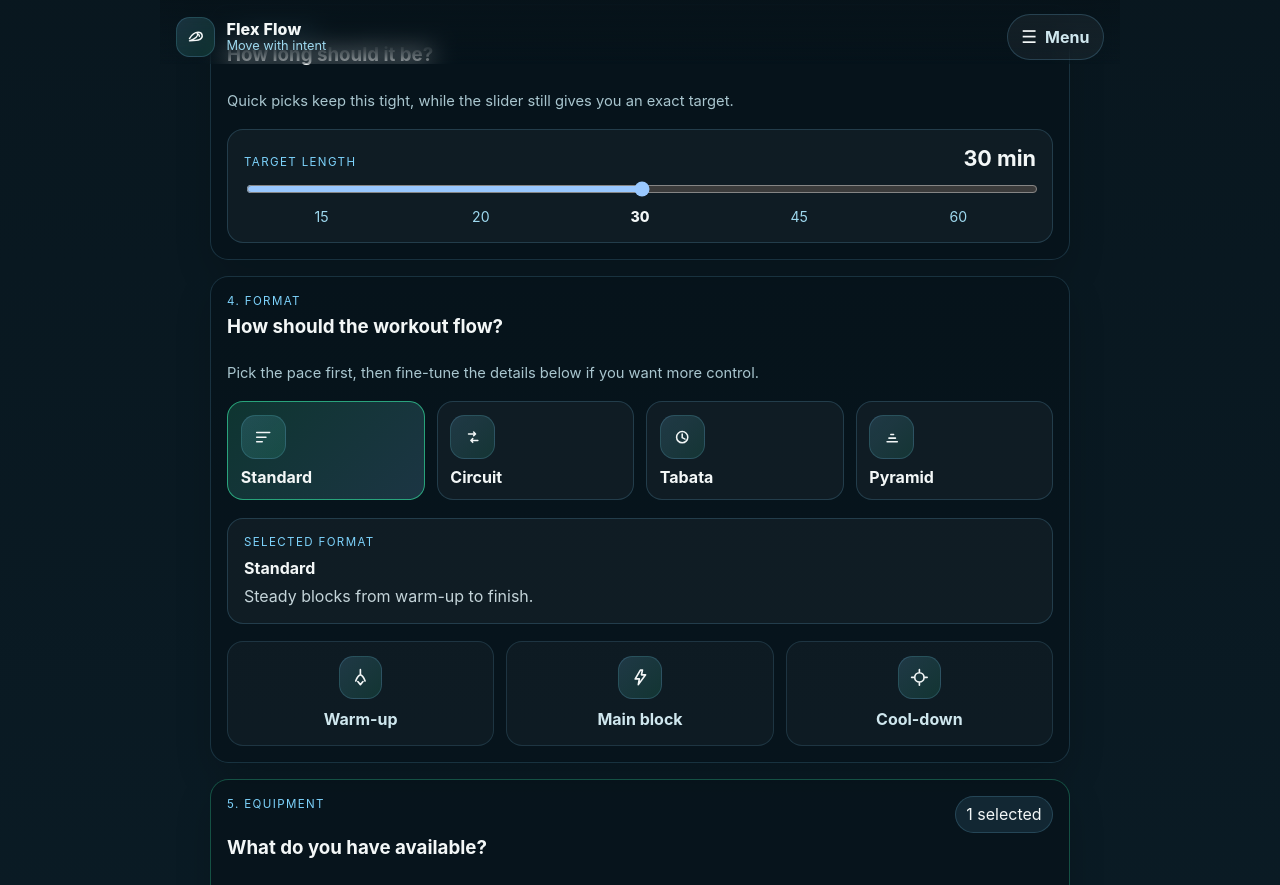
Scenario: App shell routing › updates the builder footer recap when the user changes workout shape
The width and height of the screenshot is (1280, 885).
(page scrolled)
Click the button "Tabata". click: (745, 451)
box: [646,401,844,500]
(page scrolled)
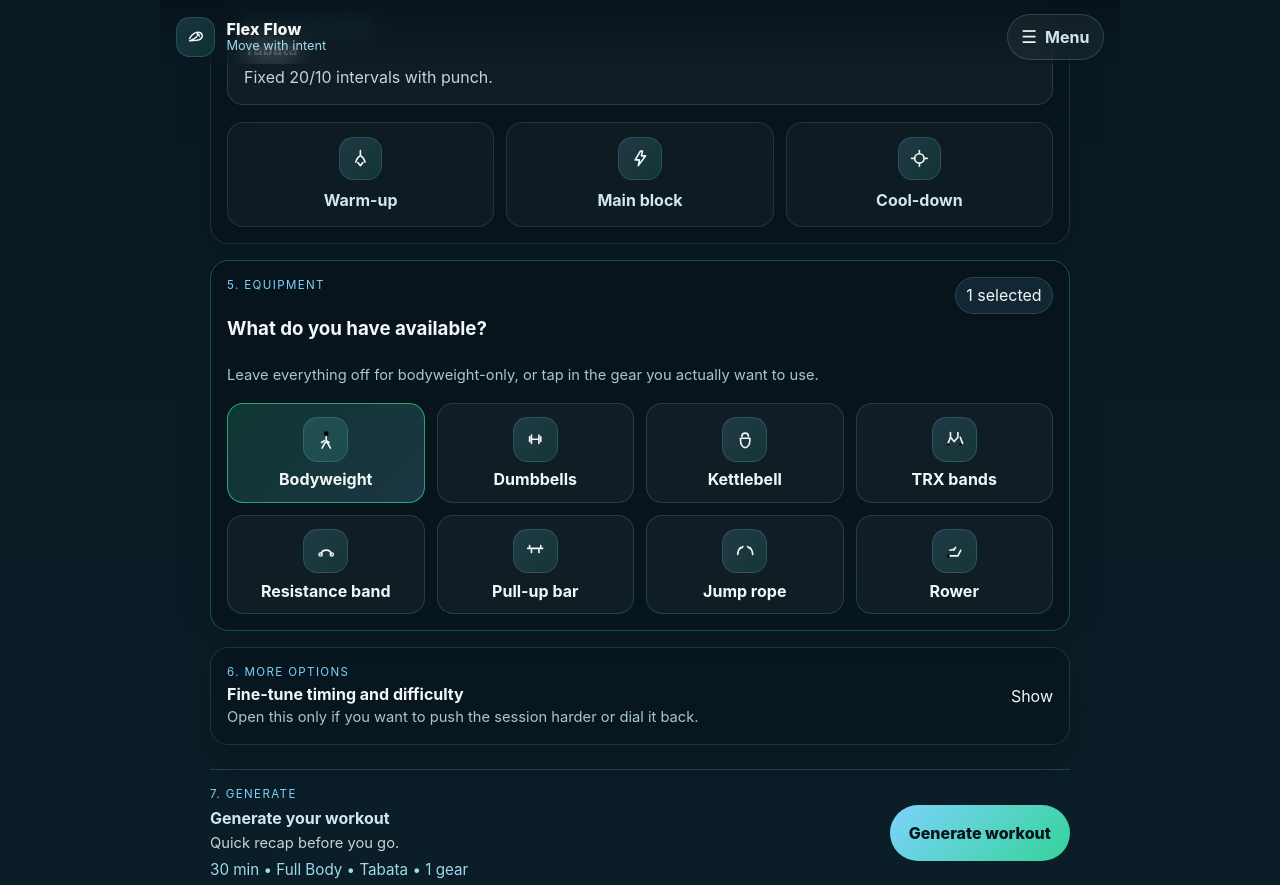
expect the text "30 min • Full Body • Tabata • 1 gear" is shown: met, box [210,860,468,880]
